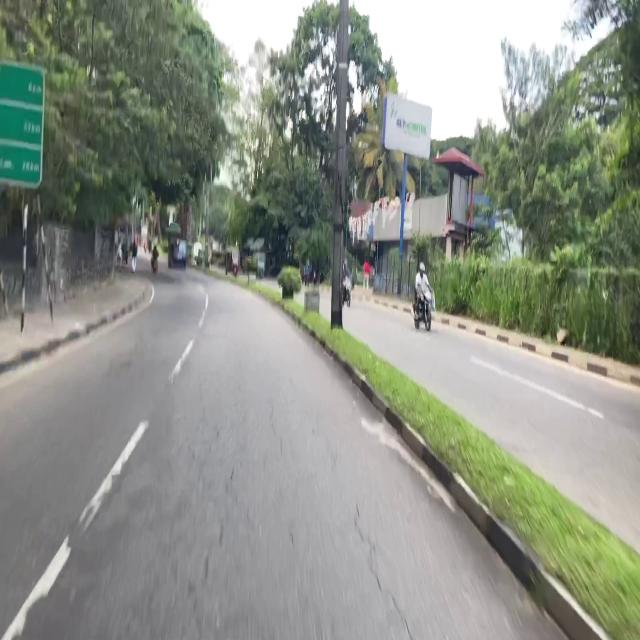motorcycle: (413, 288, 432, 331)
person: (415, 262, 431, 300), (131, 239, 138, 273), (363, 258, 370, 289)
three wheeler: (225, 247, 239, 276), (253, 251, 265, 276)
van: (169, 236, 187, 269)
